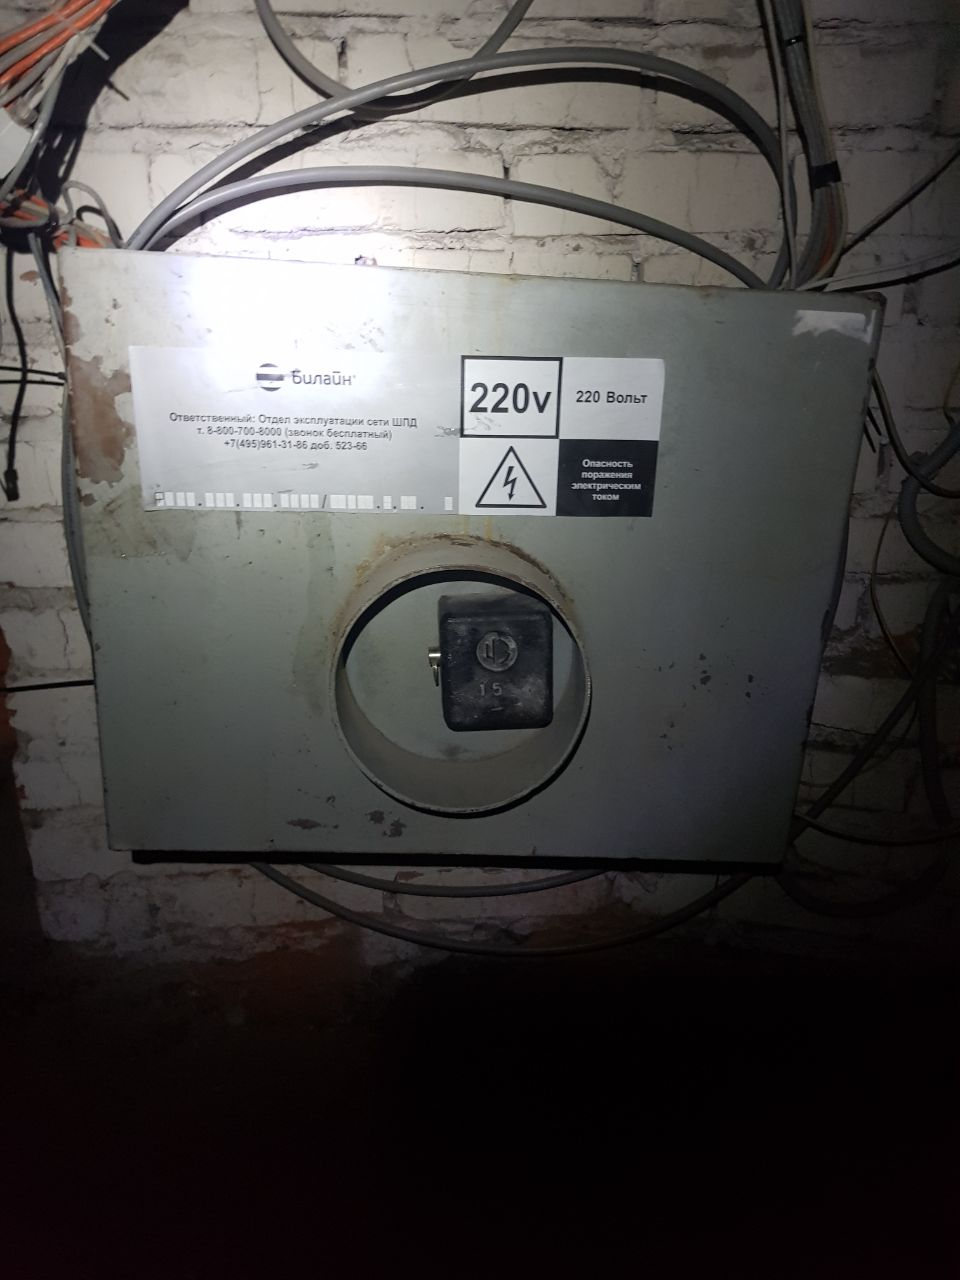shta-3: (49, 241, 892, 870)
